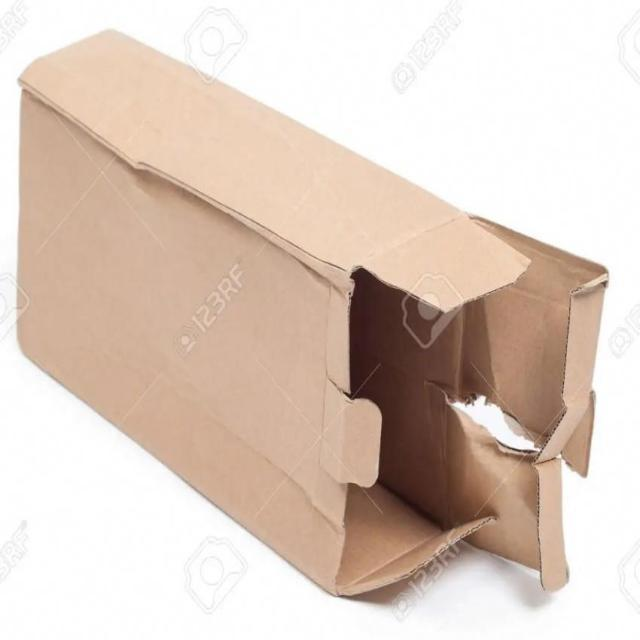box: (195, 114, 503, 495)
